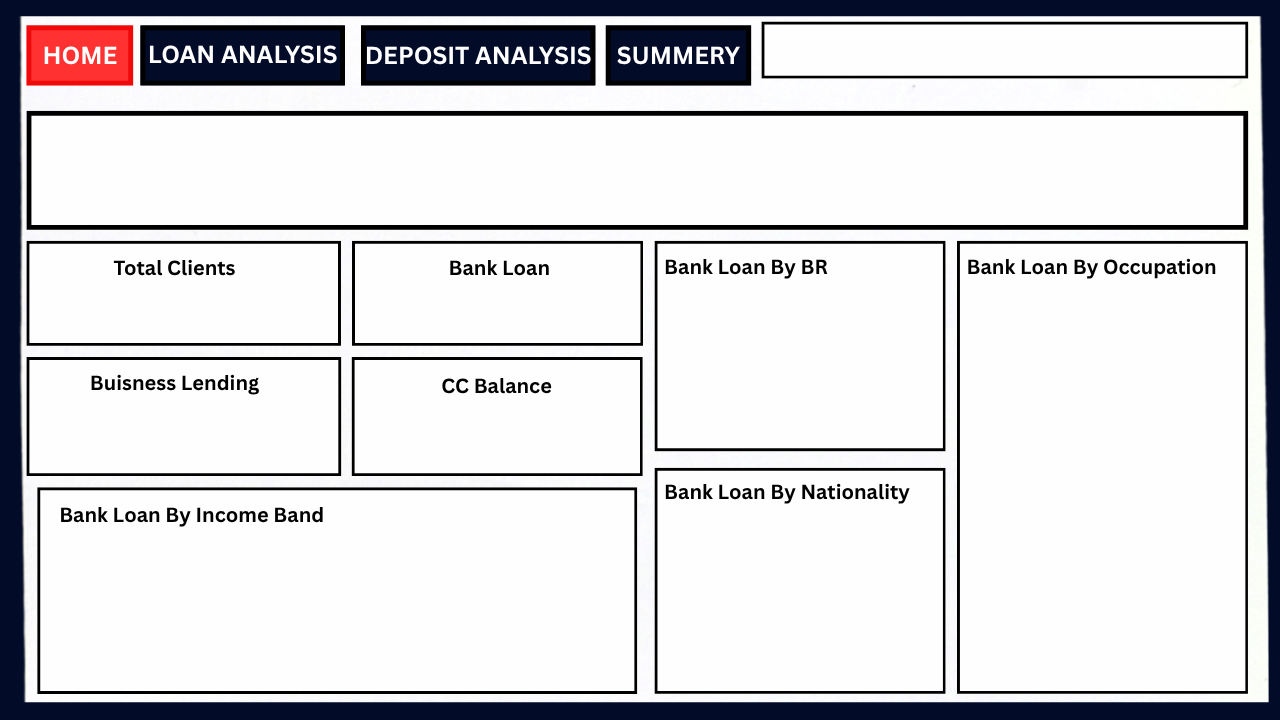

This screenshot's page, from the dashboard's own definition file:
{"tool":"powerbi","page":{"name":"Loan analysis","canvas":[1920,1080],"ordinal":2},"visuals":[{"type":"slicer","fields":{"Values":["date.Joined Bank"]},"box":[1158.2,47.1,678.6,57.9],"z":0},{"type":"actionButton","box":[54.3,47.1,128.5,70.6],"z":1000},{"type":"actionButton","box":[217.2,47.1,291.4,70.6],"z":2000},{"type":"actionButton","box":[546.5,48.9,340.2,70.6],"z":3000},{"type":"actionButton","box":[917.5,47.1,200.9,70.6],"z":4000},{"type":"cardVisual","fields":{"Data":["Count(date.ï»¿Client ID)"]},"box":[153.8,389.1,302.2,150.2],"z":5000},{"type":"cardVisual","fields":{"Data":["Sum(date.Bank Loans)"]},"box":[599,389.1,318.5,150.2],"z":6000},{"type":"cardVisual","fields":{"Data":["Sum(date.Business Lending)"]},"box":[137.5,559.2,318.5,150.2],"z":7000},{"type":"cardVisual","fields":{"Data":["Sum(date.Credit Card Balance)"]},"box":[635.2,559.2,251.5,150.2],"z":8000},{"type":"donutChart","fields":{"Category":["date.Income Band"],"Y":["Sum(date.Bank Loans)"]},"box":[153.8,756.4,653.3,323.9],"z":9000},{"type":"clusteredColumnChart","fields":{"Category":["date.BRId"],"Y":["Sum(date.Bank Loans)"]},"box":[995.3,418,412.6,242.5],"z":10000},{"type":"clusteredBarChart","fields":{"Category":["date.Nationality"],"Y":["Sum(date.Bank Loans)"]},"box":[982.6,769.1,412.6,260.6],"z":11000},{"type":"clusteredBarChart","fields":{"Category":["date.Occupation"],"Y":["Sum(date.Bank Loans)"]},"box":[1442.3,428.9,412.6,618.9],"z":12000},{"type":"slicer","fields":{"Values":["date.BRId"]},"box":[39.8,253.4,789,74.2],"z":13000},{"type":"slicer","fields":{"Values":["date.GenderId"]},"box":[828.8,253.4,421.7,74.2],"z":14000},{"type":"slicer","fields":{"Values":["date.IAId"]},"box":[1250.5,253.4,604.4,88.7],"z":15000}]}

Visuals, with their boxes in screenshot pixels (x1, y1, x2, y2), scaled from the page's 1920x1080 canvas onto the 1280x720 screenshot:
slicer - date.Joined Bank: [left=772, top=31, right=1225, bottom=70]
actionButton: [left=36, top=31, right=122, bottom=78]
actionButton: [left=145, top=31, right=339, bottom=78]
actionButton: [left=364, top=33, right=591, bottom=80]
actionButton: [left=612, top=31, right=746, bottom=78]
cardVisual - Count(date.ï»¿Client ID): [left=103, top=259, right=304, bottom=360]
cardVisual - Sum(date.Bank Loans): [left=399, top=259, right=612, bottom=360]
cardVisual - Sum(date.Business Lending): [left=92, top=373, right=304, bottom=473]
cardVisual - Sum(date.Credit Card Balance): [left=423, top=373, right=591, bottom=473]
donutChart - date.Income Band x Sum(date.Bank Loans): [left=103, top=504, right=538, bottom=719]
clusteredColumnChart - date.BRId x Sum(date.Bank Loans): [left=664, top=279, right=939, bottom=440]
clusteredBarChart - date.Nationality x Sum(date.Bank Loans): [left=655, top=513, right=930, bottom=686]
clusteredBarChart - date.Occupation x Sum(date.Bank Loans): [left=962, top=286, right=1237, bottom=699]
slicer - date.BRId: [left=27, top=169, right=553, bottom=218]
slicer - date.GenderId: [left=553, top=169, right=834, bottom=218]
slicer - date.IAId: [left=834, top=169, right=1237, bottom=228]
